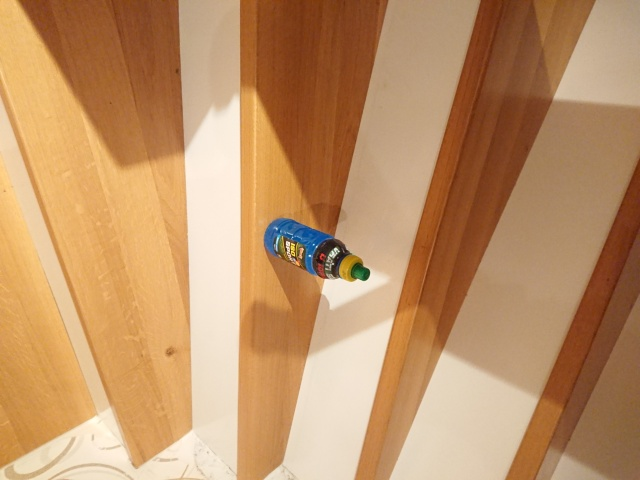Vindi Iso Sport Forest Strawberries 500mL: (262, 215, 372, 282)
